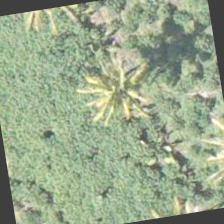Kelapa_Sawit: (67, 44, 170, 146)
